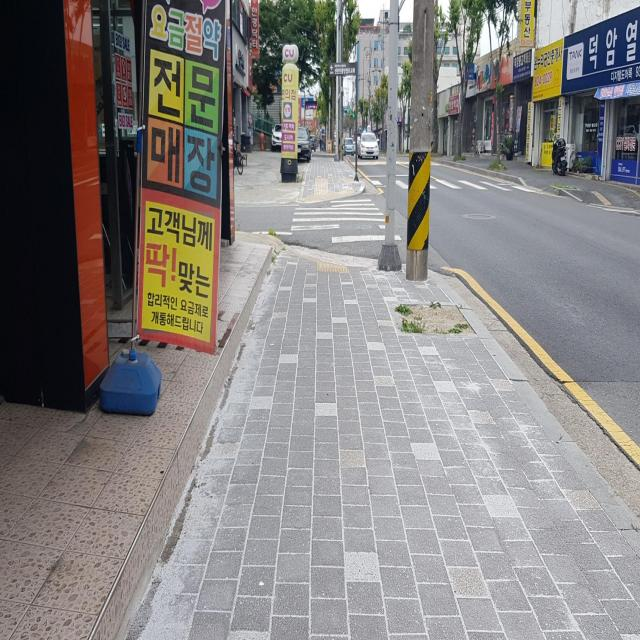횡단보도: (290, 198, 402, 244), (373, 169, 522, 193)
